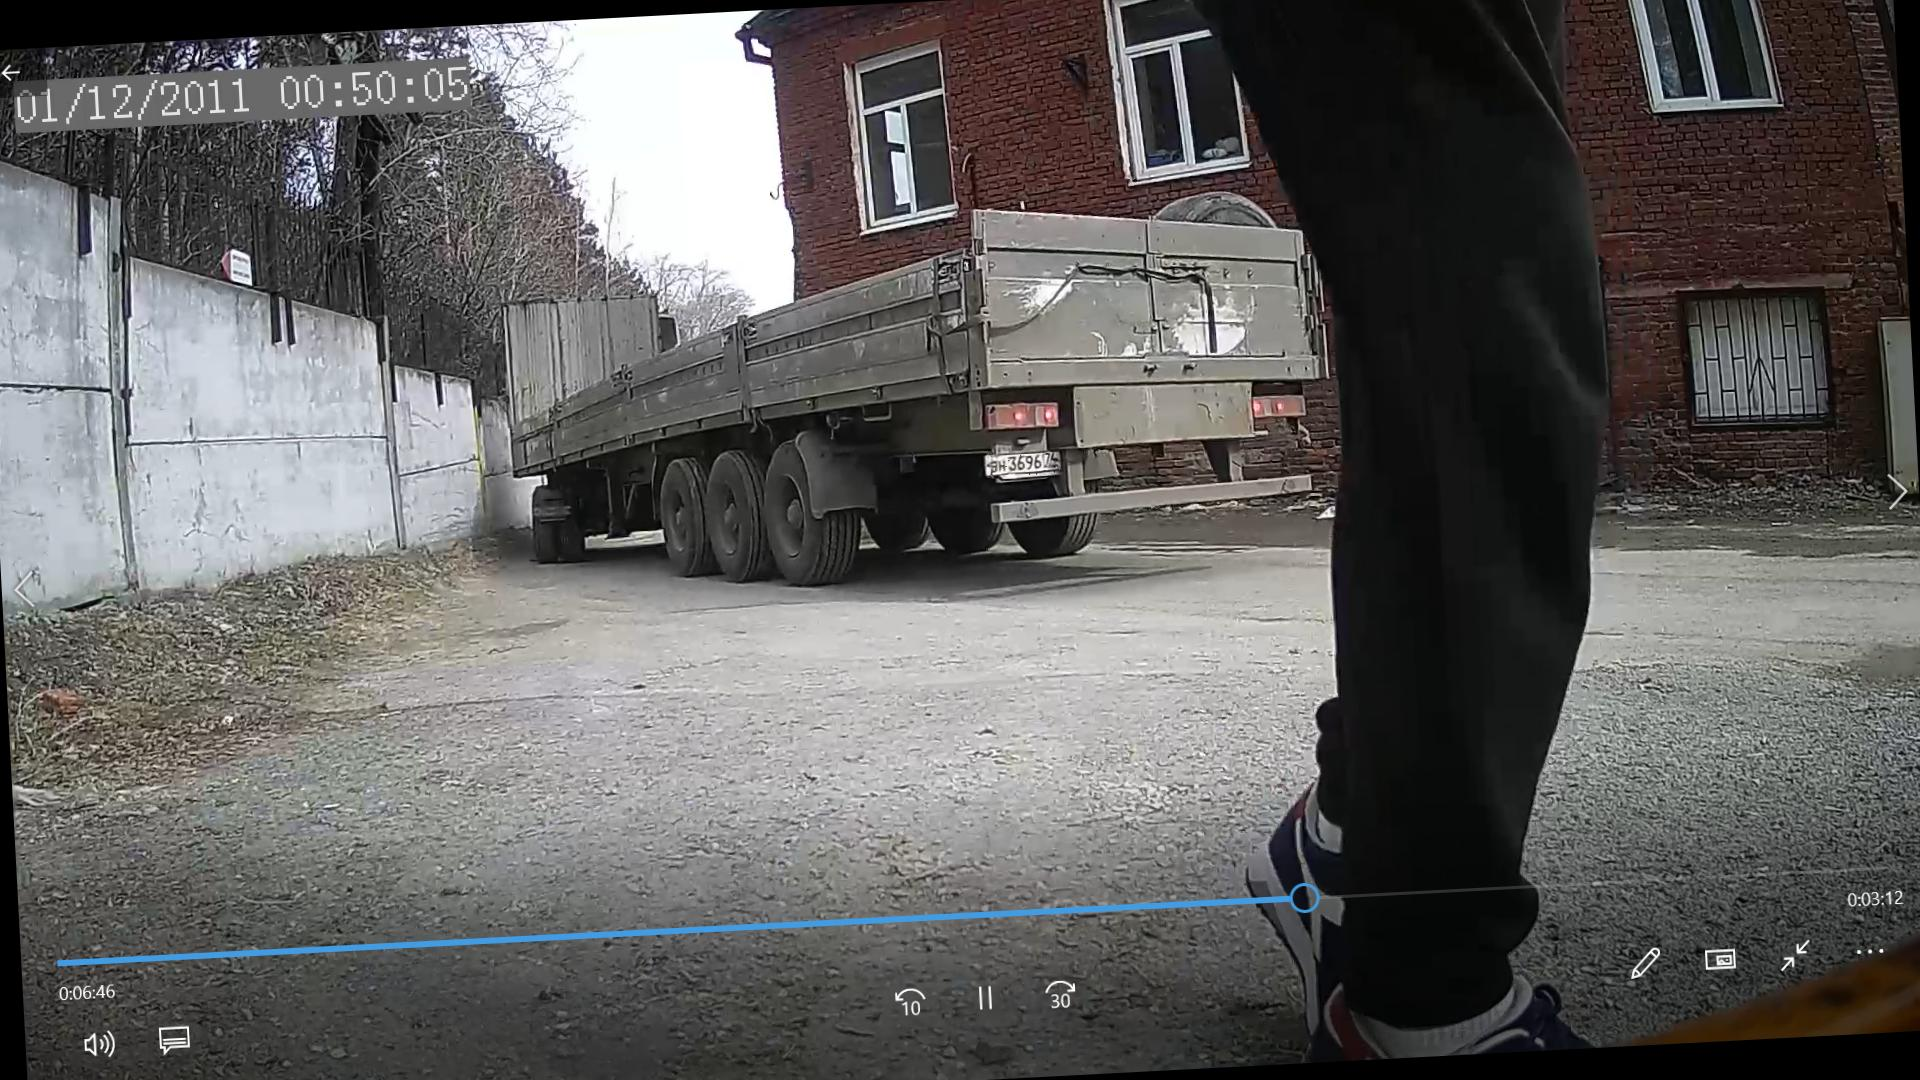plate: (986, 454, 1061, 479)
